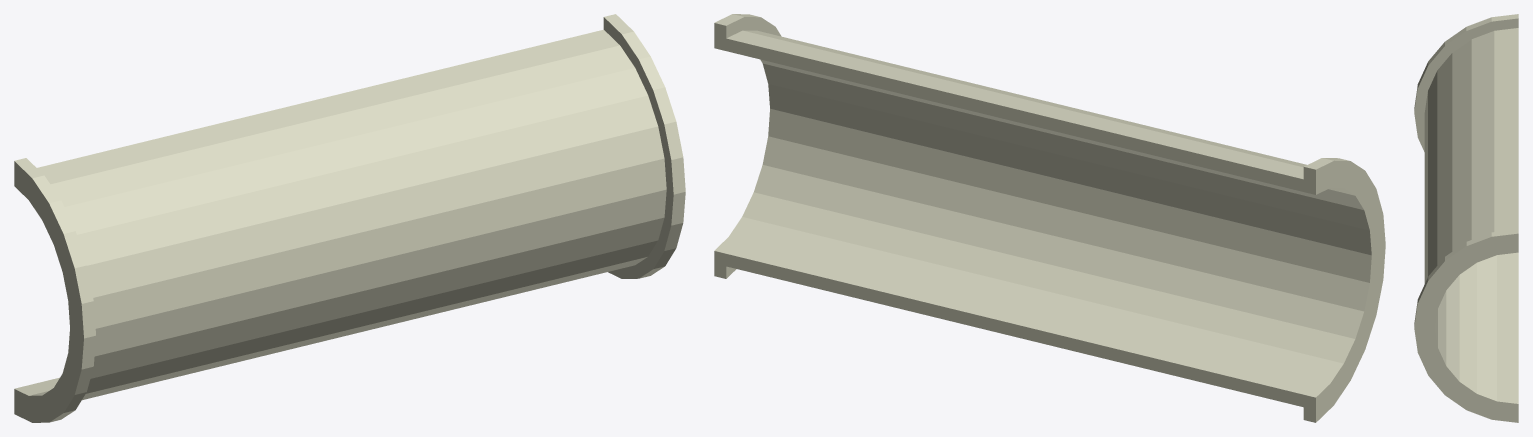
File: section_217.obj
The picture shows the model from 3 angles, left to right: view 1: azimuth 30°, elevation 25°; view 2: azimuth 150°, elevation 25°; view 3: azimuth 270°, elevation 25°; orthographic projection. The views are drawn at different scales.
Size of the model in its own units: 49.73 by 20 by 10.
